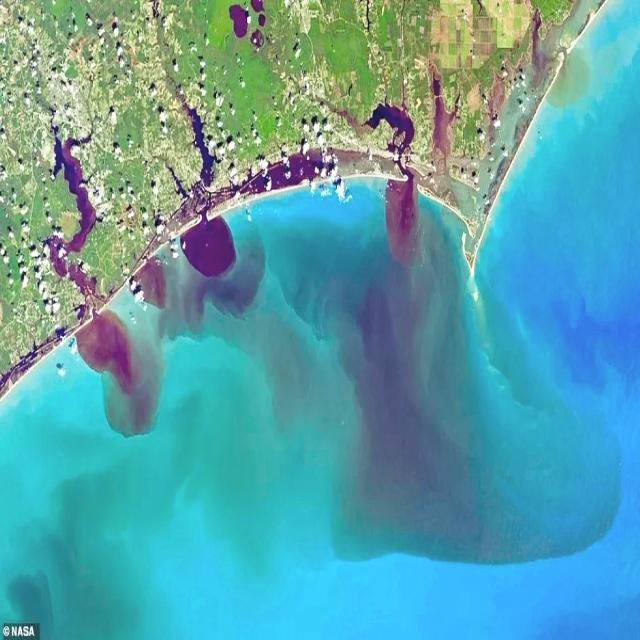oil spill: (273, 218, 491, 559), (160, 218, 265, 337), (76, 310, 162, 436), (7, 571, 55, 639), (181, 217, 235, 277), (182, 96, 217, 186), (386, 170, 419, 265), (431, 68, 460, 172), (135, 258, 166, 309), (229, 5, 248, 38)
